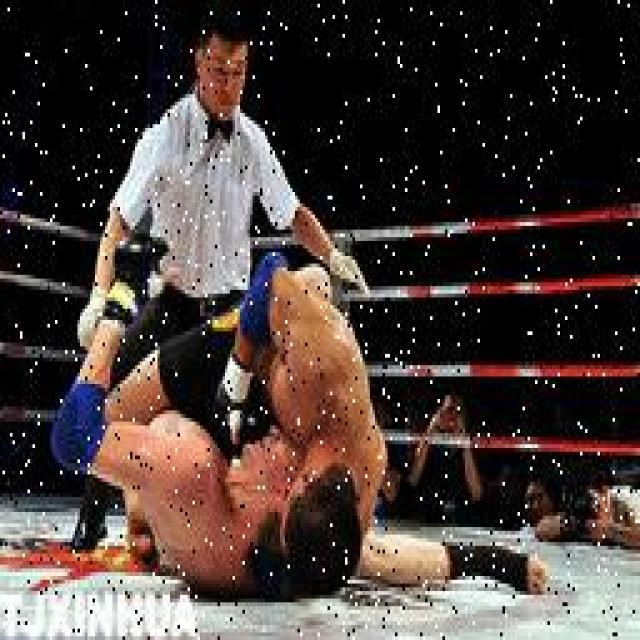fall: (58, 302, 510, 602)
